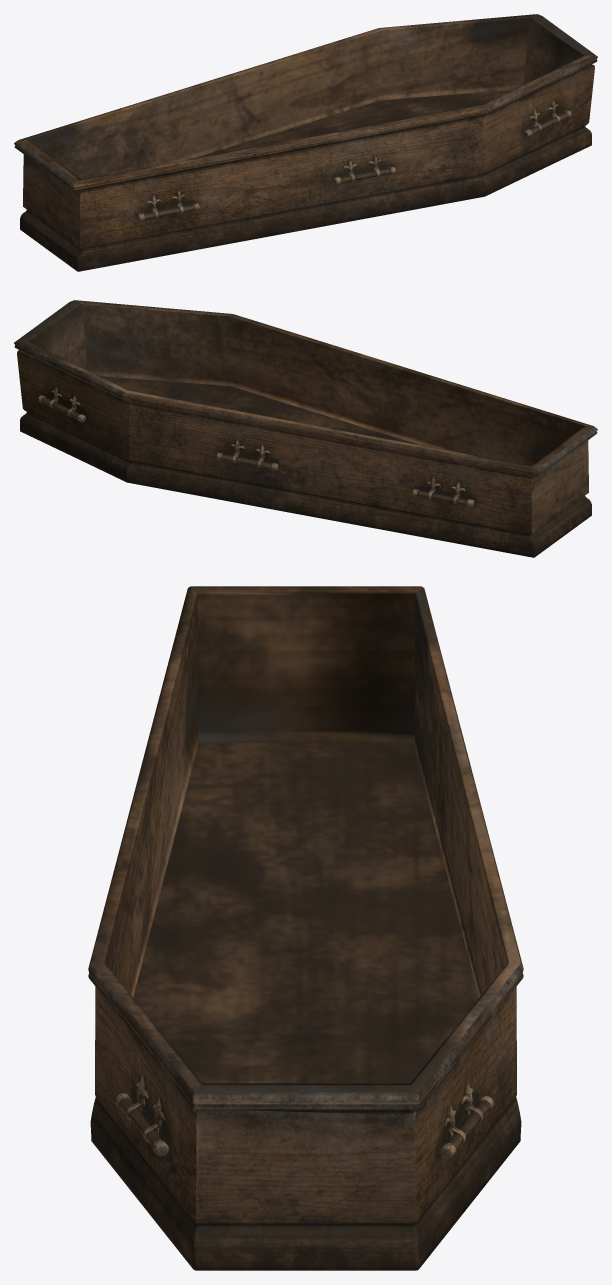
The model's file is sm_Coffin_01_02.fbx.
3 renders of one model, top to bottom at view 1: azimuth 30°, elevation 25°; view 2: azimuth 150°, elevation 25°; view 3: azimuth 270°, elevation 25°, orthographic. The views are drawn at different scales.
Visible parts, largest first — view 1: sm_Coffin_01_02_LOD0; view 2: sm_Coffin_01_02_LOD0; view 3: sm_Coffin_01_02_LOD0.
Part boxes in pixels (<box>): sm_Coffin_01_02_LOD0: <box>14,14,597,271</box>; sm_Coffin_01_02_LOD0: <box>14,300,597,557</box>; sm_Coffin_01_02_LOD0: <box>88,586,523,1270</box>.
Size of the model in its own units: 224 by 80.03 by 36.61.
